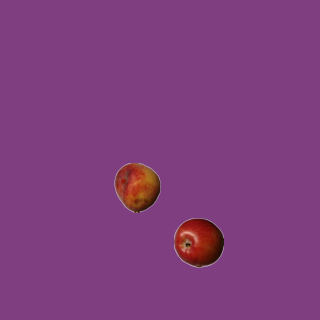Apple Braeburn: (173, 217, 223, 267)
Peach: (112, 162, 162, 212)
